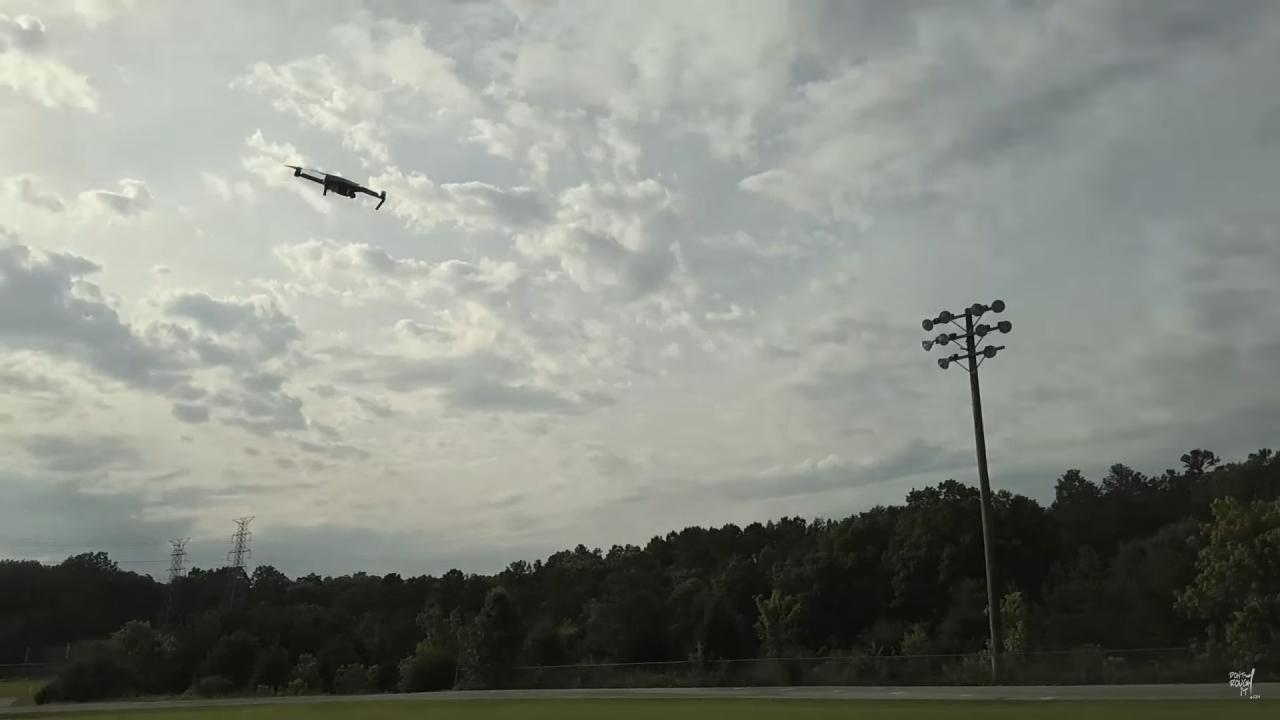Drone: (268, 152, 399, 214)
